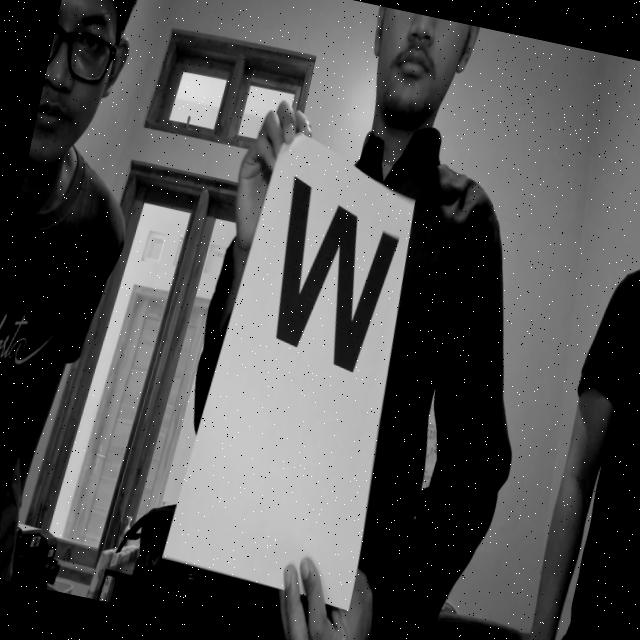w: (232, 163, 418, 414)
